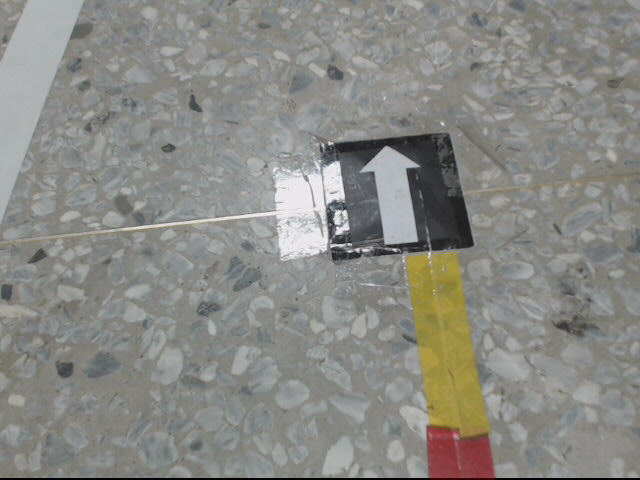straight: (317, 134, 478, 260)
